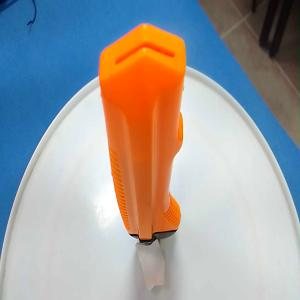estilete: (98, 23, 187, 292)
